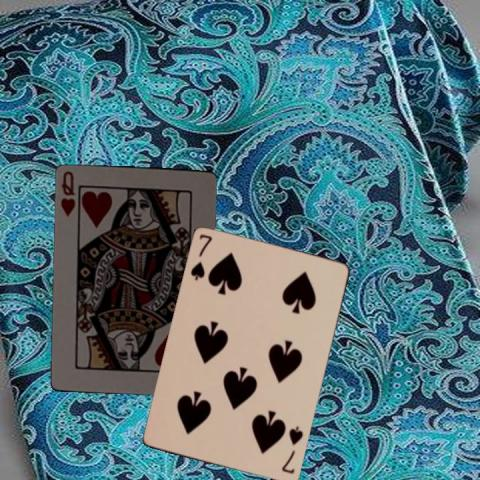7s: (278, 423, 304, 476), (187, 231, 214, 282)
Qh: (57, 168, 77, 218)
